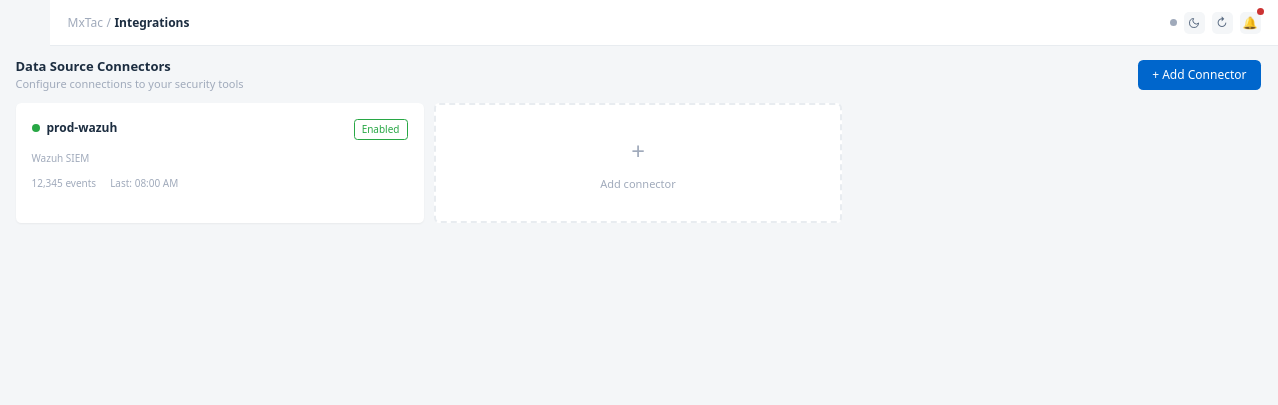
Scenario: ConnectorsPage › card selection / detail panel › clicking the same card again closes the detail panel
Click the text "prod-wazuh": (82, 128) [46,119,117,137]
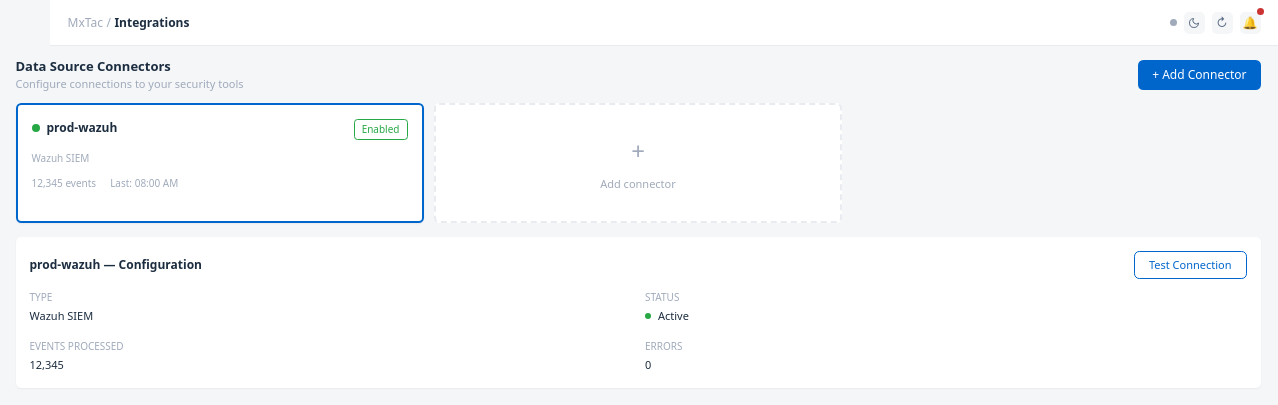
Check: the heading "prod-wazuh — Configuration" is shown, box [30,256,202,274]
Click the text "prod-wazuh": (82, 128) [46,119,117,137]
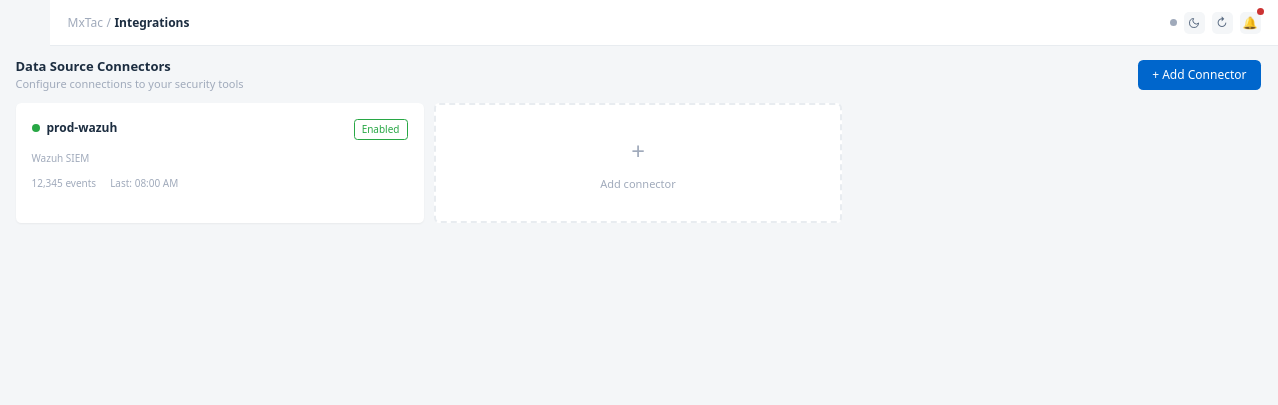
Check: the heading "prod-wazuh — Configuration" is gone
